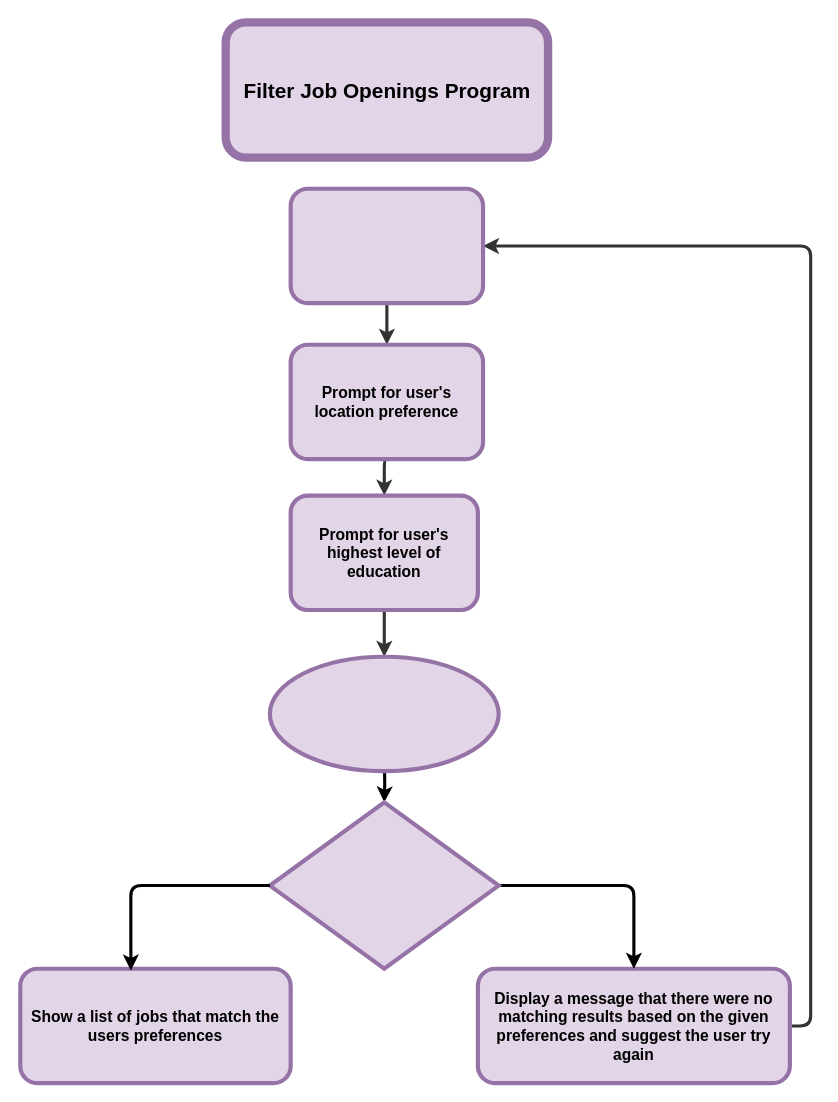
This 838x1102 diagram has some shape labels left out. The centre of each missing label's shape, as x and y in pixels:
"Filter job openings based on user preferences" goes at point (383, 713).
"Is there matching jobs?" goes at point (383, 885).
"Prompt for user's salary preference" goes at point (386, 245).
